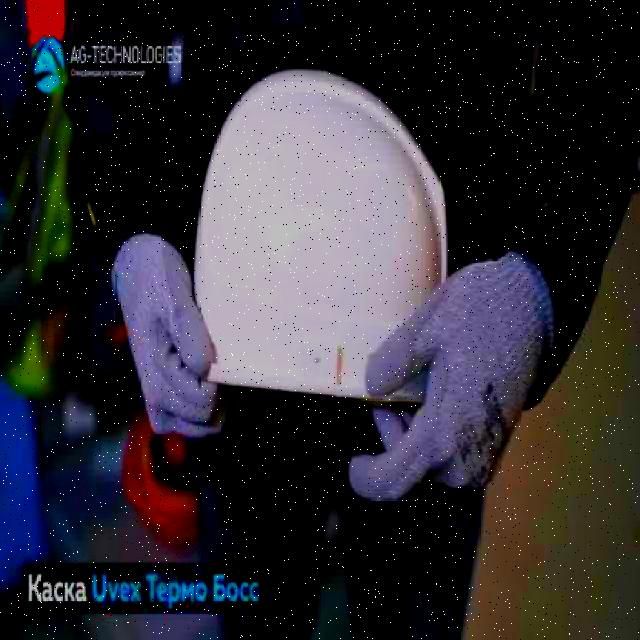Gloves: (344, 250, 554, 502), (110, 233, 233, 442)
Helmet: (190, 64, 450, 402)
